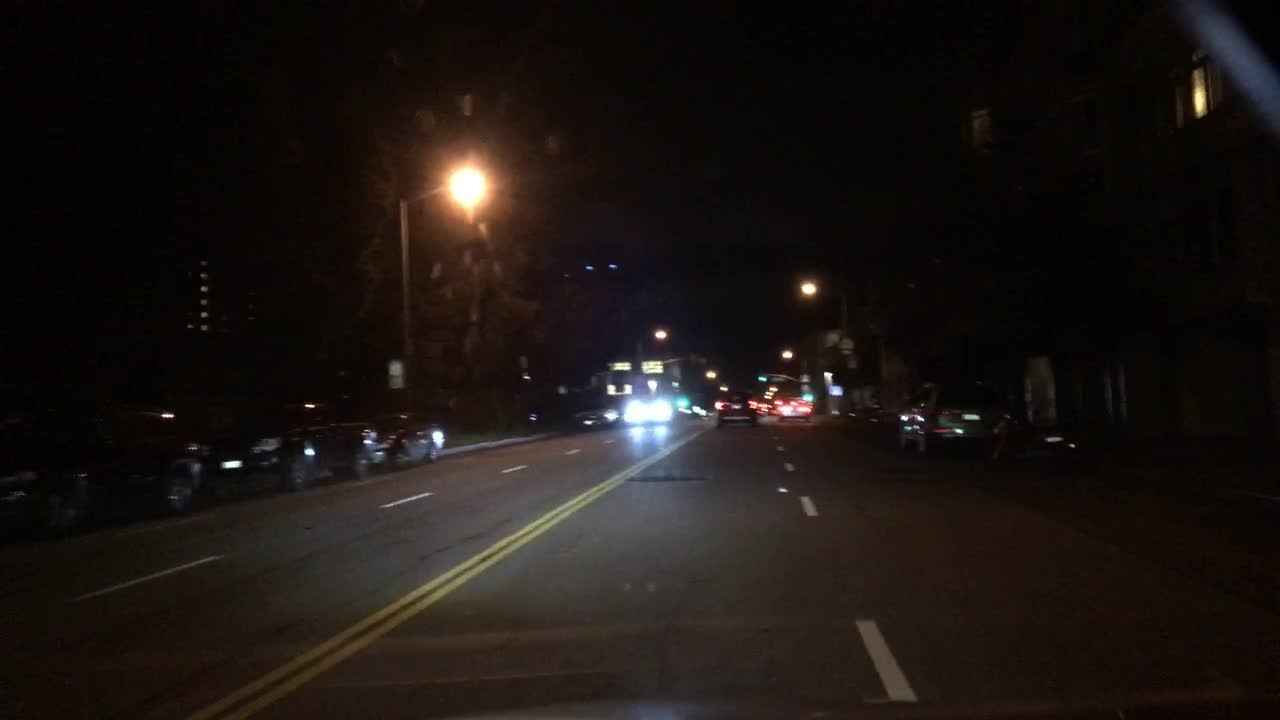car: (0, 409, 238, 530), (208, 397, 394, 484), (919, 382, 1019, 453), (368, 415, 443, 468), (713, 393, 763, 428), (621, 399, 674, 427), (570, 397, 618, 427), (895, 396, 922, 445), (777, 393, 812, 421)
traffic light: (678, 399, 690, 406), (756, 375, 768, 381)
traffic sign: (388, 361, 403, 387), (642, 361, 663, 373), (609, 363, 630, 370)
